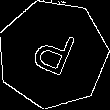P_S: (26, 24, 80, 85)
